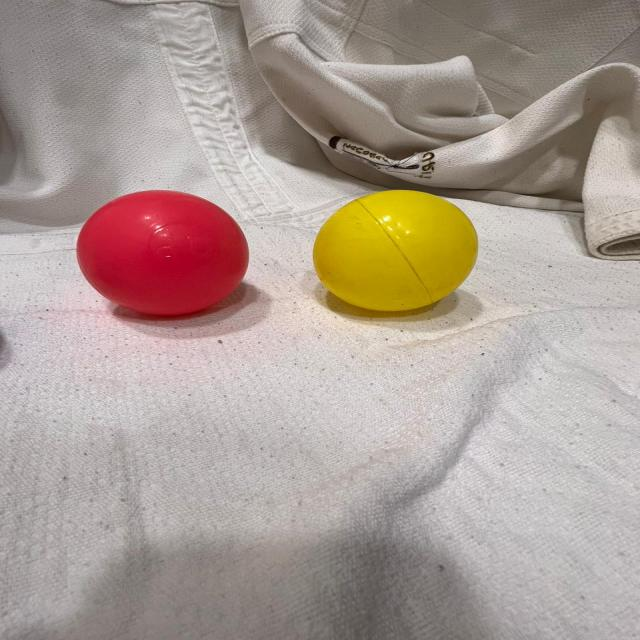ball: (70, 187, 252, 319), (312, 187, 483, 312)
